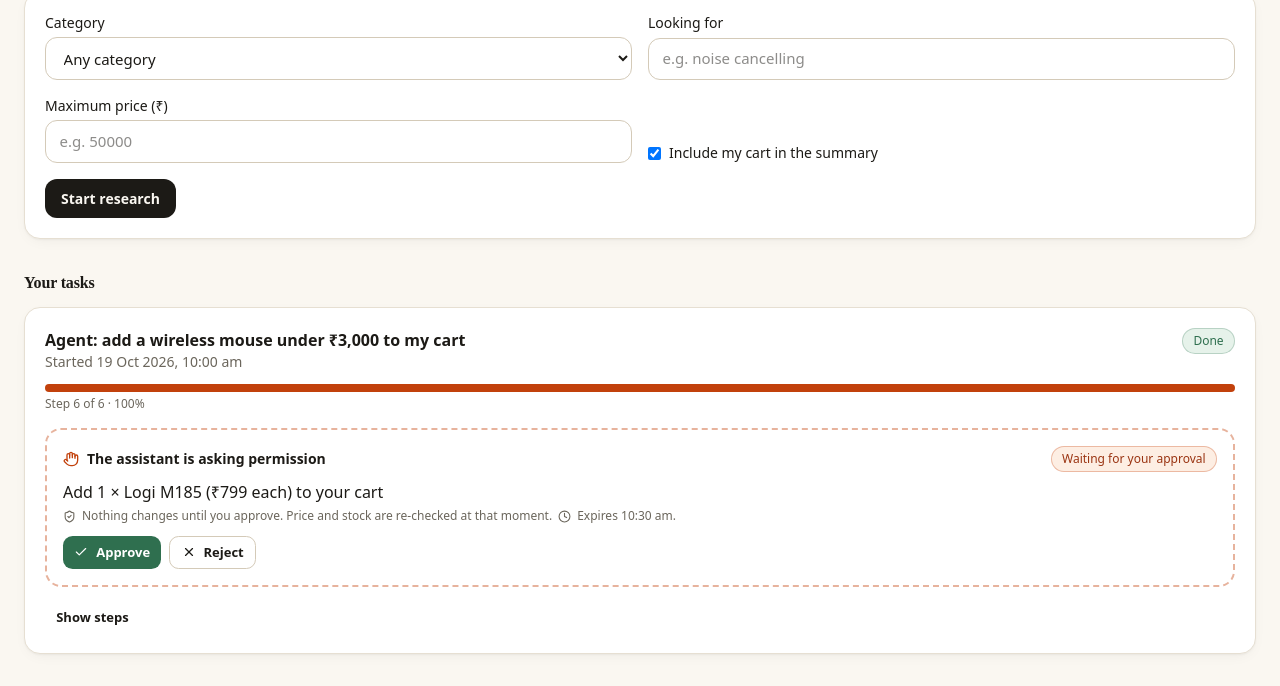
it: Task controls › shows an agent task's cart proposal and approves it only through the approval API
(page scrolled)
Expected: the text "Add 1 × Logi M185 (₹799 each) to your cart" is shown, 63,481 -> 383,503
Expected: the text with test id "action-status" reads "Waiting for your approval", 1062,450 -> 1206,467
Click the button "Approve" at (112, 552), box 63,536 -> 161,569
(page scrolled)
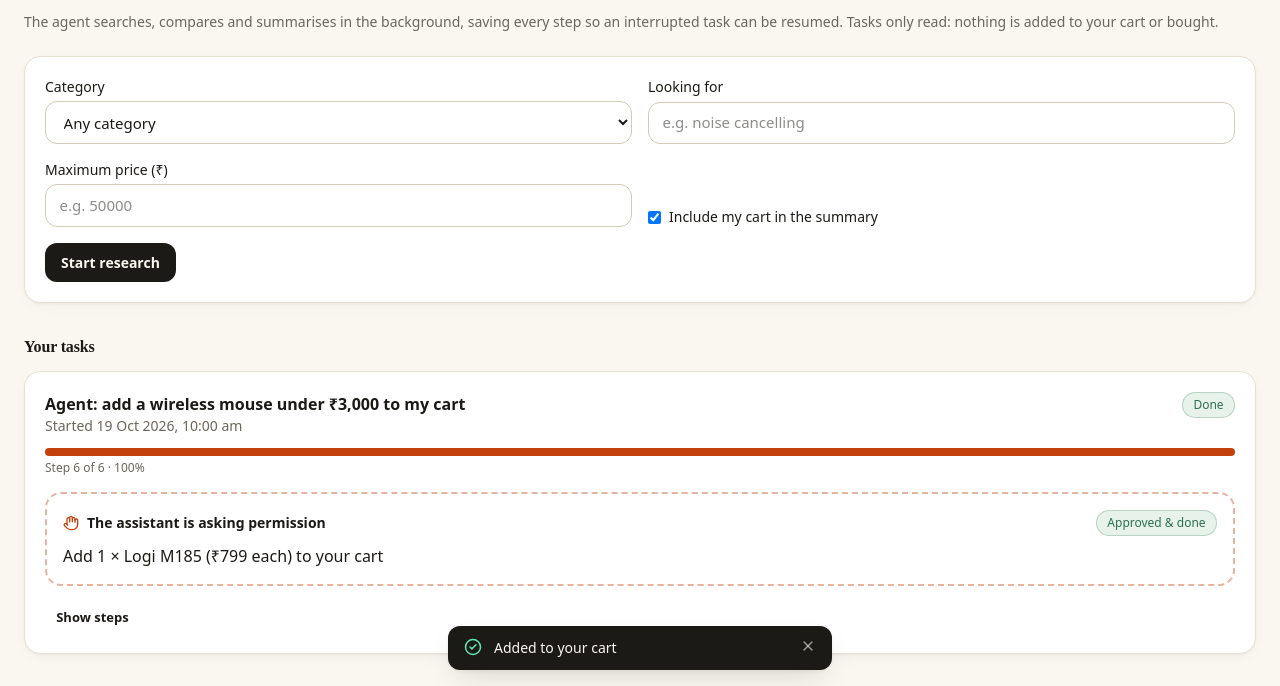
Expected: the text with test id "action-status" reads "Approved & done", 1107,514 -> 1206,531
